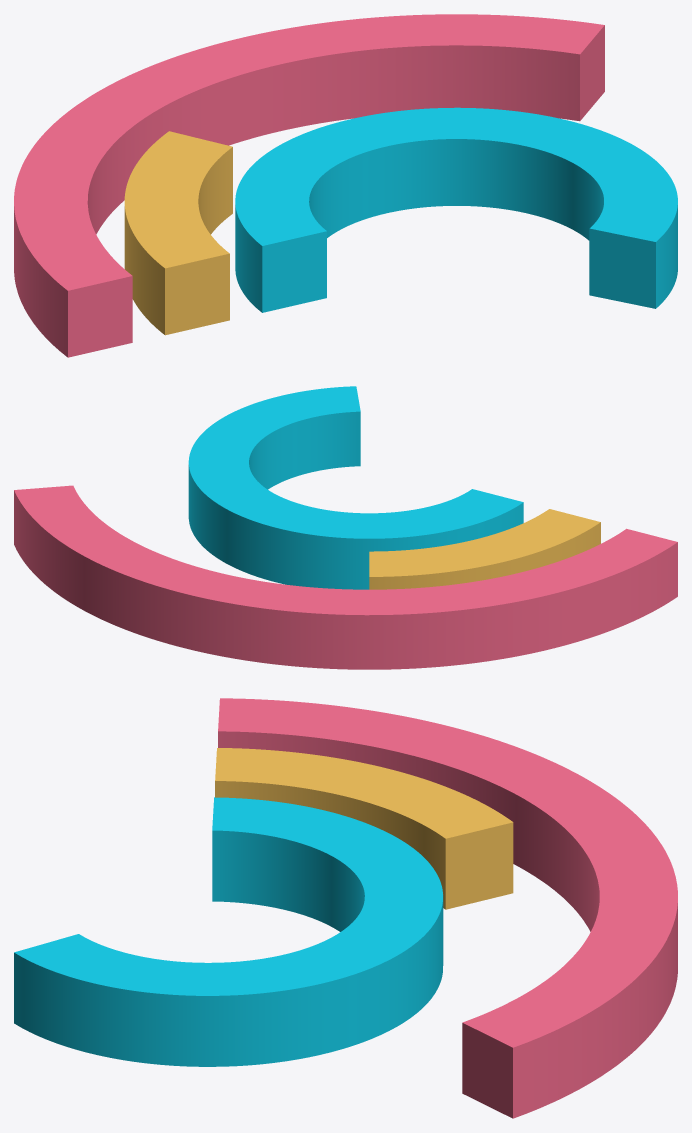
File: elderly3.fbx
The picture shows the model from 3 angles, top to bottom: view 1: azimuth 30°, elevation 25°; view 2: azimuth 150°, elevation 25°; view 3: azimuth 270°, elevation 25°; orthographic projection. The views are drawn at different scales.
Visible parts, largest first — view 1: Elderly2_obj; view 2: Elderly2_obj; view 3: Elderly2_obj.
Part boxes in pixels (box(x1,y1,x2,y2)): Elderly2_obj: box(14, 14, 677, 357); Elderly2_obj: box(14, 386, 677, 669); Elderly2_obj: box(14, 698, 677, 1118).
Size of the model in its own units: 2.11 by 0.2 by 1.7.
